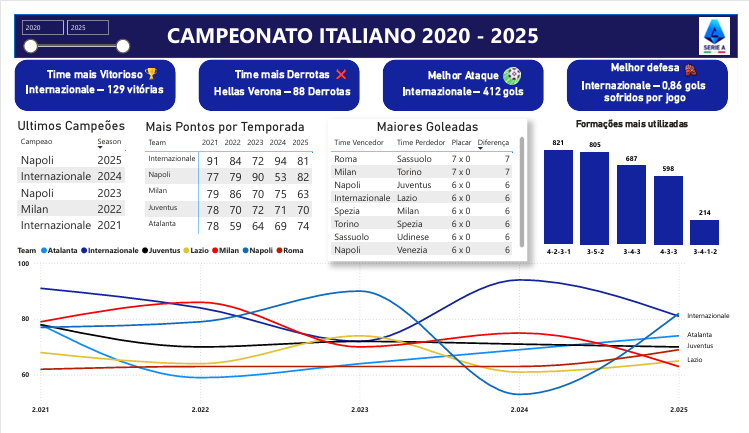

The dashboard page shown, as its layout file describes it:
{"tool":"powerbi","page":{"name":"Pagina Inicial","canvas":[1280,720],"ordinal":0},"visuals":[{"type":"shape","box":[0,0,1280,76.7],"z":0,"group":"g1"},{"type":"shape","box":[0,80.4,285.1,91],"z":0},{"type":"textbox","box":[265,5,703.3,60],"z":1000,"group":"g1"},{"type":"shape","box":[326.1,80.4,285.1,91],"z":1000},{"type":"shape","box":[652.1,80.4,285.1,91],"z":2000},{"type":"shape","box":[978.2,80.4,285.1,91],"z":3000},{"type":"group","id":"g1","title":"Grupo 1","box":[0,0,1280,76.7],"z":4000},{"type":"card","title":"Time mais Vitorioso","fields":{"Values":["Medidas.Time Mais Vitorioso"]},"box":[0,94,285.1,56.1],"z":5000},{"type":"tableEx","title":"Ultimos Campeões","fields":{"Values":["CampeoesPorAno.Campeao","CampeoesPorAno.Season"]},"box":[0,183.3,213.3,215],"z":6000},{"type":"card","title":"Time mais Derrotas","fields":{"Values":["Medidas.Time Mais Derrotas"]},"box":[332.1,94,285.1,60.7],"z":7000},{"type":"card","title":"Melhor Ataque","fields":{"Values":["Medidas.Melhor Ataque"]},"box":[652.1,95.5,285.1,59.1],"z":8000},{"type":"card","title":"Melhor defesa","fields":{"Values":["Medidas.Melhor Defesa"]},"box":[970.1,82.5,293.4,84.4],"z":9000},{"type":"pivotTable","title":"Mais Pontos por Temporada","fields":{"Rows":["RankingPorAno.Team"],"Values":["Sum(RankingPorAno.TotalPontos)"],"Columns":["RankingPorAno.Season"]},"box":[227,185.1,314.3,213],"z":10000},{"type":"lineChart","fields":{"Y":["Sum(RankingPorAno.TotalPontos)"],"Series":["RankingPorAno.Team"],"Category":["RankingPorAno.SeasonNum"]},"box":[0,398.1,1280,321.3],"z":11000},{"type":"tableEx","title":"Maiores Goleadas","fields":{"Values":["GoleadasUnicas.Time Vencedor","GoleadasUnicas.Time Perdedor","GoleadasUnicas.Placar","Sum(GoleadasUnicas.MaiorDif)"]},"box":[555.3,185.1,352.7,253.2],"z":12000},{"type":"slicer","fields":{"Values":["matches_serie_A.Date.Variation.Hierarquia de datas.Ano"]},"box":[0,0,213.3,76.7],"z":13000},{"type":"columnChart","title":"Formações mais utilizadas","fields":{"Y":["CountNonNull(matches_serie_A.Team)"],"Category":["matches_serie_A.Opp Formation"]},"box":[907.2,182.9,373,254.9],"z":14000},{"type":"image","box":[1197.5,0,82.5,76.2],"z":14001},{"type":"image","box":[226.9,87.5,30.6,37.5],"z":14002},{"type":"image","box":[1179.4,80.6,36.2,35.6],"z":14003},{"type":"image","box":[565,91.9,26.9,28.1],"z":14005},{"type":"image","box":[860,87.5,40.6,42.5],"z":14006}]}

Visuals, with their boxes in screenshot pixels (x1, y1, x2, y2), scaled from the page's 1280x720 canvas onto the 749x433 screenshot:
shape: Rect(0, 0, 748, 46)
shape: Rect(0, 48, 167, 103)
textbox: Rect(155, 3, 567, 39)
shape: Rect(191, 48, 358, 103)
shape: Rect(382, 48, 548, 103)
shape: Rect(572, 48, 739, 103)
"Grupo 1" group: Rect(0, 0, 748, 46)
"Time mais Vitorioso" card: Rect(0, 57, 167, 90)
"Ultimos Campeões" tableEx: Rect(0, 110, 125, 240)
"Time mais Derrotas" card: Rect(194, 57, 361, 93)
"Melhor Ataque" card: Rect(382, 57, 548, 93)
"Melhor defesa" card: Rect(568, 50, 739, 100)
"Mais Pontos por Temporada" pivotTable: Rect(133, 111, 317, 239)
lineChart - Sum(RankingPorAno.TotalPontos) x RankingPorAno.Team: Rect(0, 239, 748, 432)
"Maiores Goleadas" tableEx: Rect(325, 111, 531, 264)
slicer - matches_serie_A.Date.Variation.Hierarquia de datas.Ano: Rect(0, 0, 125, 46)
"Formações mais utilizadas" columnChart: Rect(531, 110, 748, 263)
image: Rect(701, 0, 748, 46)
image: Rect(133, 53, 151, 75)
image: Rect(690, 48, 711, 70)
image: Rect(331, 55, 346, 72)
image: Rect(503, 53, 527, 78)
